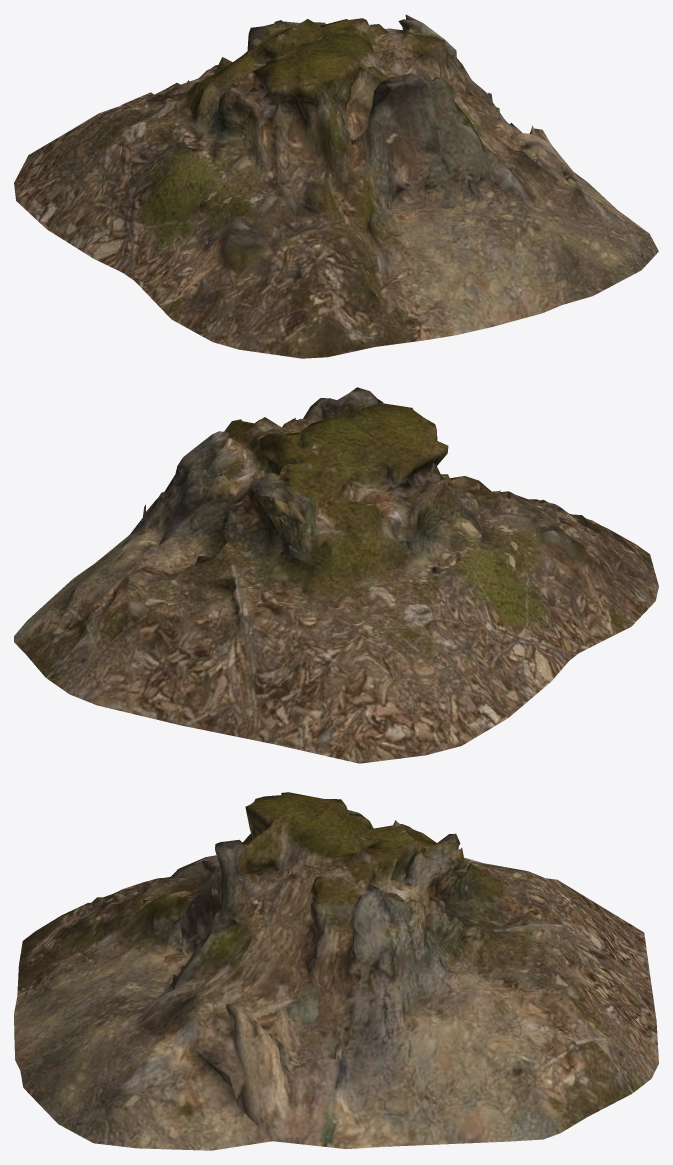
File: tree_stump_01.glb
The picture shows the model from 3 angles, top to bottom: view 1: azimuth 30°, elevation 25°; view 2: azimuth 150°, elevation 25°; view 3: azimuth 270°, elevation 25°; orthographic projection. The views are drawn at different scales.
Parts seen in each view (by area): view 1: tree_stump_01; view 2: tree_stump_01; view 3: tree_stump_01.
Boxes of the visible parts, x1,y1,x2,y2 form: tree_stump_01: [14, 14, 658, 358]; tree_stump_01: [14, 387, 658, 763]; tree_stump_01: [14, 792, 658, 1150].
Bounding box in the file's own units: 1.43 × 0.57 × 1.59.
1 material, 1 textured.
